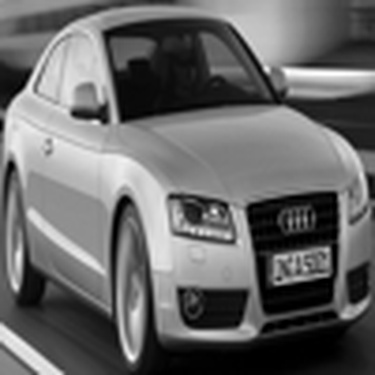car: (2, 4, 367, 363)
